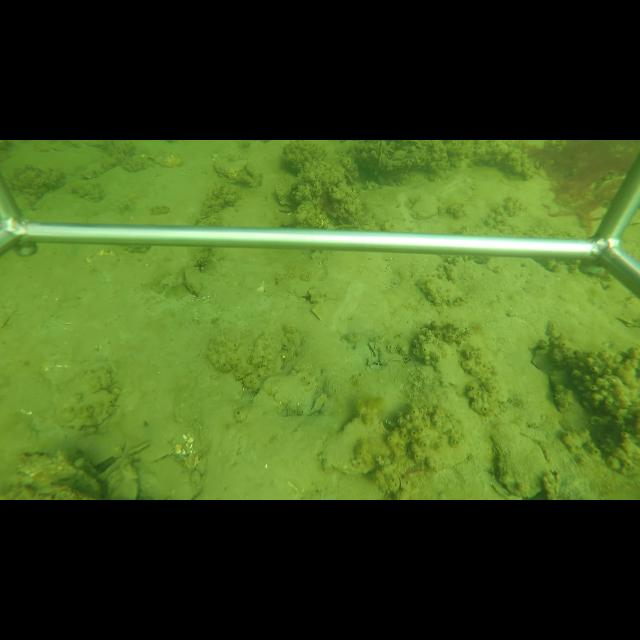Oyster-Closed: (490, 421, 550, 499), (325, 413, 391, 477), (136, 456, 198, 500), (213, 156, 251, 180), (412, 194, 441, 218), (183, 263, 203, 295)
